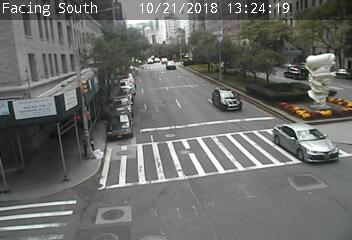car: (273, 123, 338, 164), (212, 88, 241, 110), (166, 61, 176, 70)
